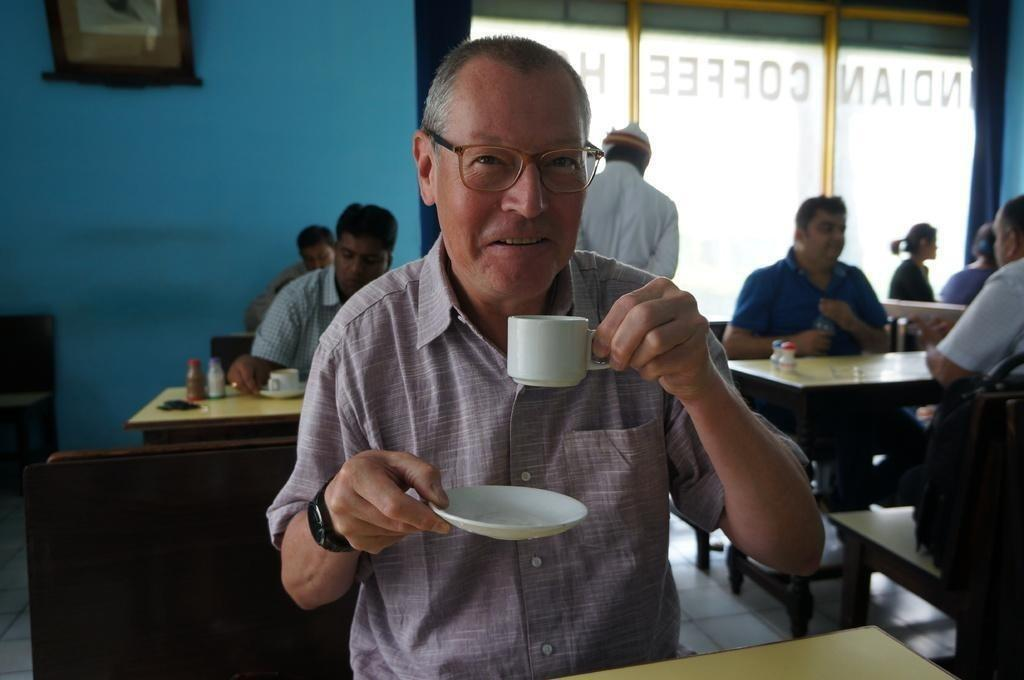cup-handle: (508, 314, 616, 389), (269, 367, 300, 395)
